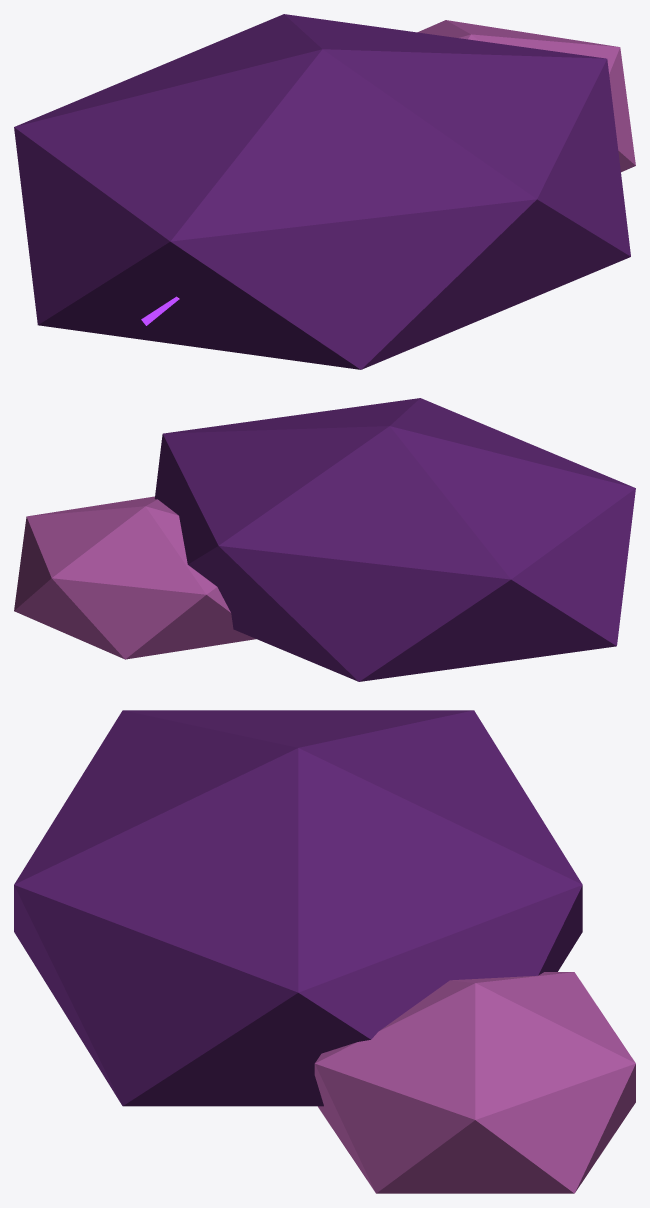
Rendered from enemy_peatling_fragment_gel.glb.
The picture shows the model from 3 angles, top to bottom: view 1: azimuth 30°, elevation 25°; view 2: azimuth 150°, elevation 25°; view 3: azimuth 270°, elevation 25°; orthographic projection. The views are drawn at different scales.
Visible parts, largest first — view 1: Fragment_Gel_Body, Fragment_Gel_Lobe; view 2: Fragment_Gel_Body, Fragment_Gel_Lobe; view 3: Fragment_Gel_Body, Fragment_Gel_Lobe.
Part boxes in pixels (x1,y1,x2,y2): Fragment_Gel_Body: (14,14,630,369); Fragment_Gel_Lobe: (417,20,635,172); Fragment_Gel_Body: (154,398,635,681); Fragment_Gel_Lobe: (14,496,255,659); Fragment_Gel_Body: (14,710,582,1106); Fragment_Gel_Lobe: (314,972,635,1193).
Bounding box in the file's own units: 0.2181 × 0.09 × 0.1581.
